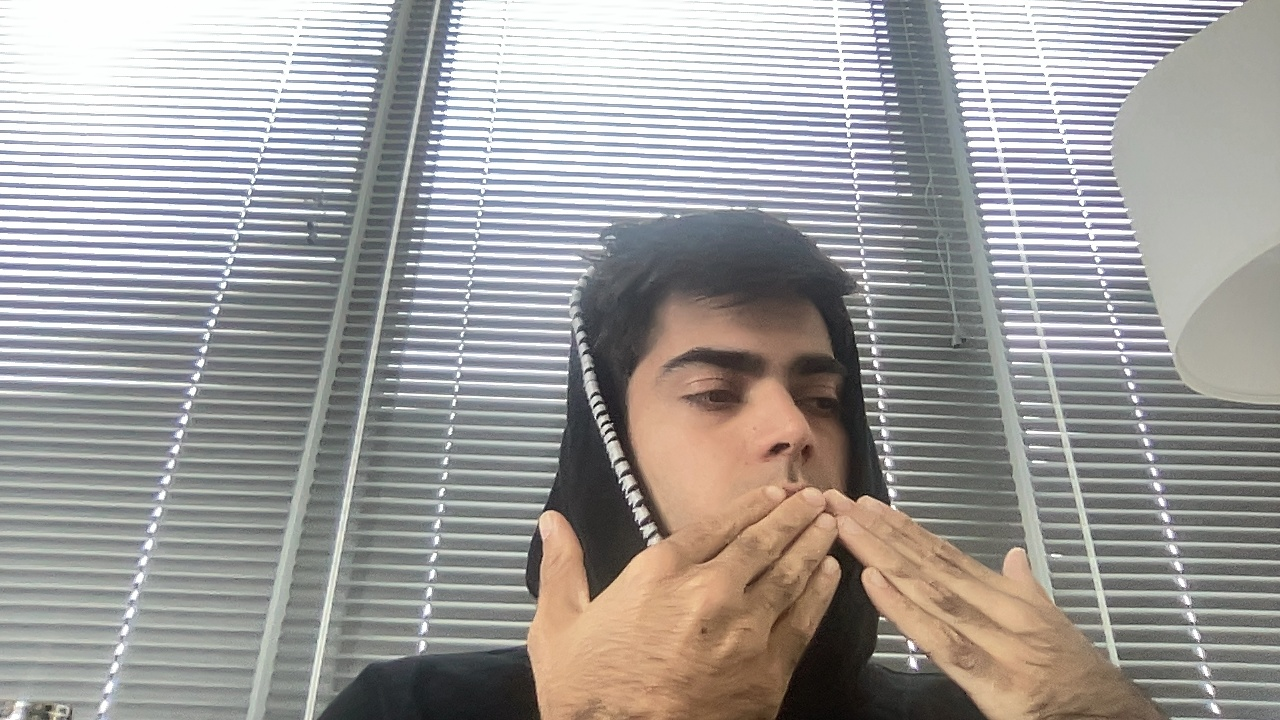thank you: (464, 309, 1173, 720)
